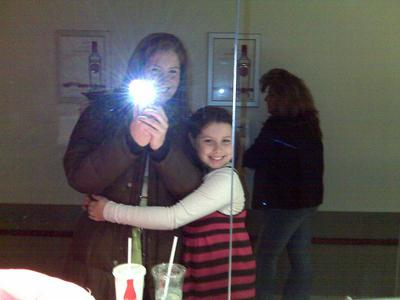person: (66, 33, 204, 295)
